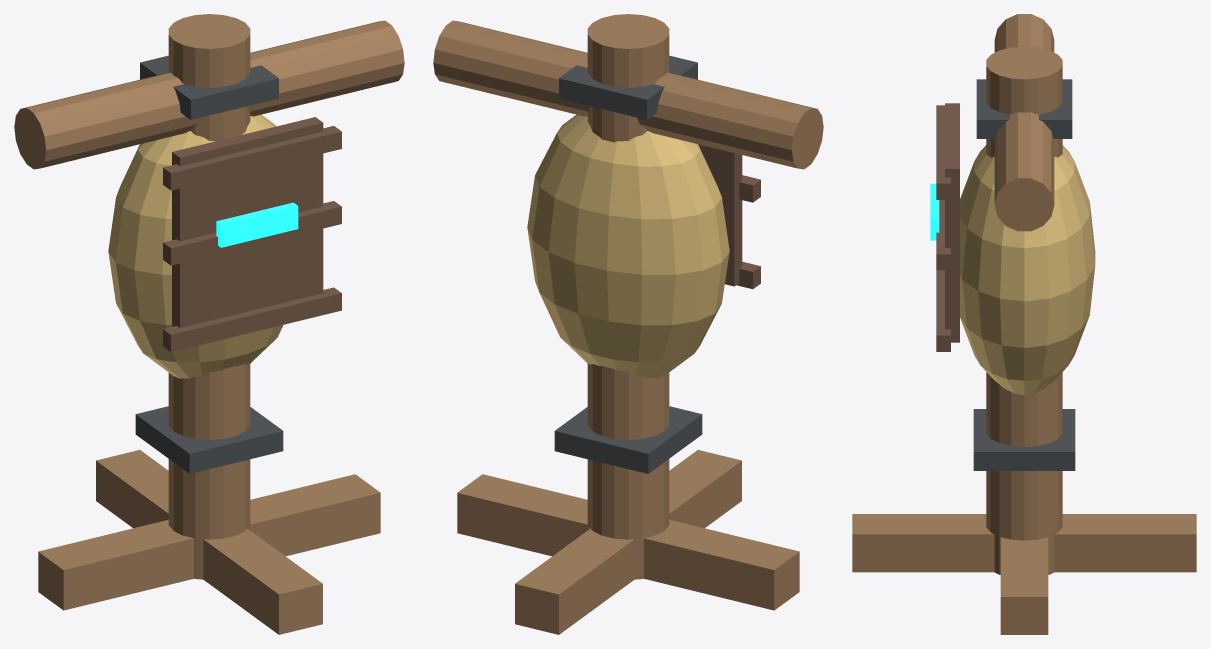
File: SM_AET_TargetDummy_A01.fbx
3 views of the same model, side by side, from view 1: azimuth 30°, elevation 25°; view 2: azimuth 150°, elevation 25°; view 3: azimuth 270°, elevation 25° (orthographic). The views are drawn at different scales.
Visible parts, largest first — view 1: TargetPlate_Front, Crossbar_Main, Post_Main, Base_XFeet_A, Torso_StrawWrap, Base_XFeet_B, Band_Iron_PostLower, Strap_Leather_95, Strap_Leather_151, Band_Iron_PostUpper, Strap_Leather_125, Paint_AetheriumMark; view 2: Torso_StrawWrap, Crossbar_Main, Post_Main, Base_XFeet_A, Base_XFeet_B, Band_Iron_PostLower, Band_Iron_PostUpper, TargetPlate_Front; view 3: Torso_StrawWrap, Base_XFeet_B, Post_Main, Crossbar_Main, Base_XFeet_A, Band_Iron_PostLower, TargetPlate_Front, Band_Iron_PostUpper, Strap_Leather_151, Strap_Leather_95, Strap_Leather_125, Paint_AetheriumMark.
Part boxes in pixels (box(x1,y1,x2,y2)): TargetPlate_Front: box(172, 117, 323, 327); Crossbar_Main: box(14, 20, 404, 169); Post_Main: box(168, 14, 250, 579); Base_XFeet_A: box(38, 474, 380, 610); Torso_StrawWrap: box(108, 114, 283, 378); Base_XFeet_B: box(96, 450, 322, 634); Band_Iron_PostLower: box(135, 406, 283, 473); Strap_Leather_95: box(163, 287, 341, 351); Strap_Leather_151: box(163, 126, 341, 190); Band_Iron_PostUpper: box(140, 55, 278, 119); Strap_Leather_125: box(163, 201, 341, 265); Paint_AetheriumMark: box(216, 202, 298, 247); Torso_StrawWrap: box(527, 114, 729, 378); Crossbar_Main: box(433, 20, 823, 169); Post_Main: box(587, 14, 669, 579); Base_XFeet_A: box(457, 474, 799, 610); Base_XFeet_B: box(515, 450, 741, 634); Band_Iron_PostLower: box(554, 406, 702, 473); Band_Iron_PostUpper: box(559, 55, 697, 119); TargetPlate_Front: box(698, 144, 742, 286); Torso_StrawWrap: box(960, 145, 1095, 394); Base_XFeet_B: box(852, 514, 1196, 572); Post_Main: box(986, 46, 1062, 574); Crossbar_Main: box(994, 14, 1054, 231); Base_XFeet_A: box(1000, 537, 1048, 634); Band_Iron_PostLower: box(973, 409, 1075, 470); TargetPlate_Front: box(945, 103, 959, 342); Band_Iron_PostUpper: box(976, 79, 1072, 138); Strap_Leather_151: box(936, 105, 950, 199); Strap_Leather_95: box(936, 270, 950, 351); Strap_Leather_125: box(936, 200, 950, 270); Paint_AetheriumMark: box(930, 183, 939, 240).
Size of what is drawn, in the model's own units: 11500 by 13000 by 18400.
